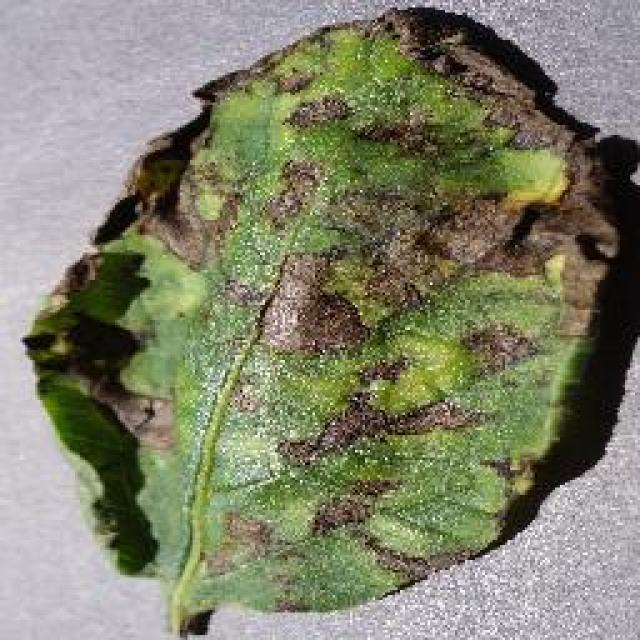early_blight: (20, 2, 635, 638)
